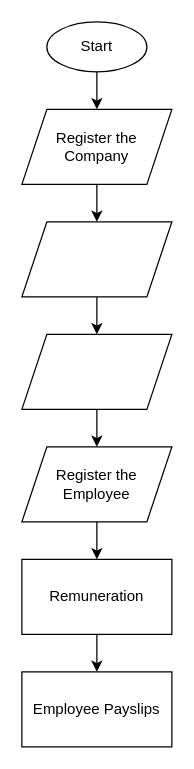
Some shapes in this 194 by 769 pixel diagram are drawn without their labels. The shapes that lost their labels are listed below. From the top down, each one's centre as x and y in pixels, then its label:
At point 96,259: "Register the Contract & Salary Rules".
At point 96,371: "Register the Structure".
